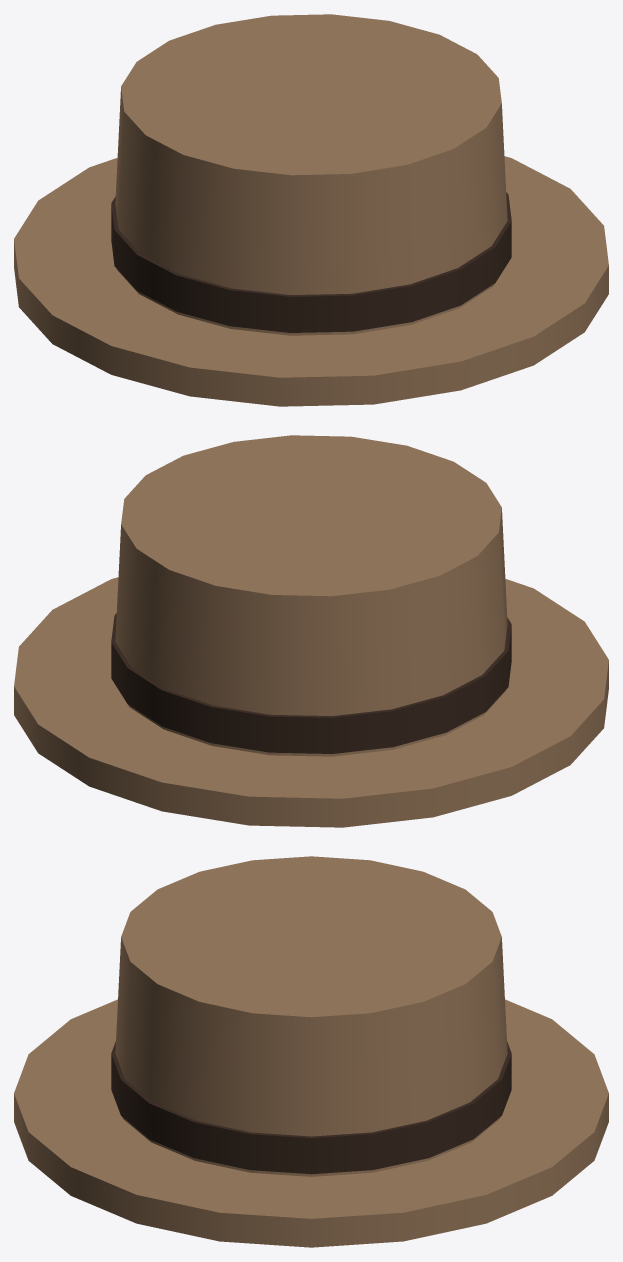
The model's file is chapeau_marcel.glb.
The picture shows the model from 3 angles, top to bottom: view 1: azimuth 30°, elevation 25°; view 2: azimuth 150°, elevation 25°; view 3: azimuth 270°, elevation 25°; orthographic projection.
Size of the model in its own units: 1.5 by 0.515 by 1.5.
